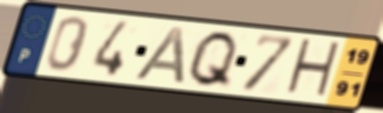0: (45, 14, 92, 74)
4: (90, 19, 132, 79)
7: (241, 33, 298, 94)
A: (131, 24, 188, 86)
H: (282, 36, 344, 102)
Q: (184, 29, 241, 91)
